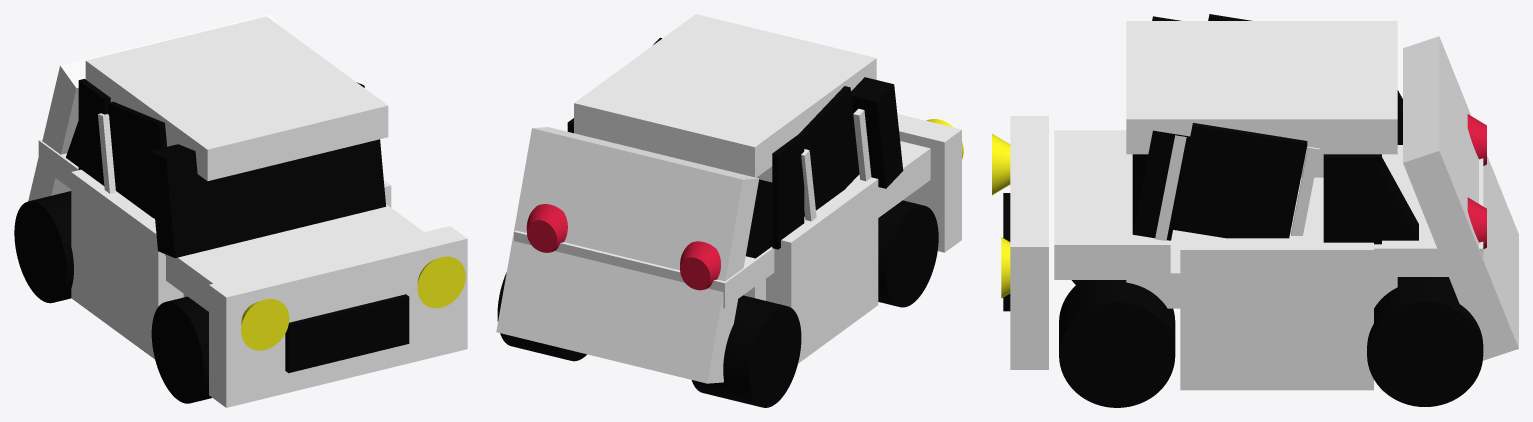
The model's file is abarth_500.glb.
3 renders of one model, left to right at view 1: azimuth 30°, elevation 25°; view 2: azimuth 150°, elevation 25°; view 3: azimuth 270°, elevation 25°, orthographic. The views are drawn at different scales.
Parts seen in each view (by area): view 1: MeshInstance3D15, MeshInstance3D, MeshInstance3D2, MeshInstance3D5, MeshInstance3D4, MeshInstance3D72, WheelRR_Mesh, WheelFR_Mesh, MeshInstance3D9, MeshInstance3D92, MeshInstance3D12, MeshInstance3D52 (+3 smaller); view 2: MeshInstance3D92, MeshInstance3D15, MeshInstance3D5, WheelRR_Mesh, WheelFR_Mesh, MeshInstance3D, MeshInstance3D9, MeshInstance3D2, MeshInstance3D82, MeshInstance3D12, MeshInstance3D4, MeshInstance3D102 (+5 smaller); view 3: MeshInstance3D15, MeshInstance3D3, MeshInstance3D92, MeshInstance3D4, WheelFL_Mesh, MeshInstance3D8, WheelRL_Mesh, MeshInstance3D, MeshInstance3D13, MeshInstance3D82, MeshInstance3D2, MeshInstance3D14 (+8 smaller).
Boxes of the visible parts, box(x1,y1,x2,y2) form: MeshInstance3D15: box(85, 16, 388, 181); MeshInstance3D: box(209, 226, 467, 407); MeshInstance3D2: box(149, 139, 385, 257); MeshInstance3D5: box(71, 169, 183, 359); MeshInstance3D4: box(166, 204, 423, 311); MeshInstance3D72: box(285, 294, 409, 373); WheelRR_Mesh: box(14, 191, 73, 303); WheelFR_Mesh: box(151, 296, 211, 403); MeshInstance3D9: box(108, 101, 166, 218); MeshInstance3D92: box(28, 14, 279, 201); MeshInstance3D12: box(78, 79, 110, 185); MeshInstance3D52: box(241, 299, 289, 350); MeshInstance3D92: box(496, 127, 759, 383); MeshInstance3D15: box(574, 14, 876, 177); MeshInstance3D5: box(766, 174, 878, 363); WheelRR_Mesh: box(691, 295, 801, 407); WheelFR_Mesh: box(878, 200, 938, 307); MeshInstance3D: box(897, 114, 961, 252); MeshInstance3D9: box(798, 86, 859, 216); MeshInstance3D2: box(851, 77, 903, 188); MeshInstance3D82: box(514, 230, 774, 308); MeshInstance3D12: box(772, 134, 804, 249); MeshInstance3D4: box(756, 141, 930, 217); MeshInstance3D102: box(680, 241, 720, 290); MeshInstance3D15: box(1126, 21, 1397, 154); MeshInstance3D3: box(1180, 233, 1373, 390); MeshInstance3D92: box(1403, 36, 1518, 360); MeshInstance3D4: box(1054, 130, 1170, 279); WheelFL_Mesh: box(1059, 280, 1175, 407); MeshInstance3D8: box(1172, 123, 1307, 238); WheelRL_Mesh: box(1367, 277, 1483, 406); MeshInstance3D: box(1010, 116, 1048, 369); MeshInstance3D13: box(1323, 154, 1381, 244); MeshInstance3D82: box(1374, 145, 1483, 276); MeshInstance3D2: box(1132, 16, 1189, 240); MeshInstance3D14: box(1126, 177, 1397, 308).
Size of the model in its own units: 0.8369 by 0.7655 by 1.36.
